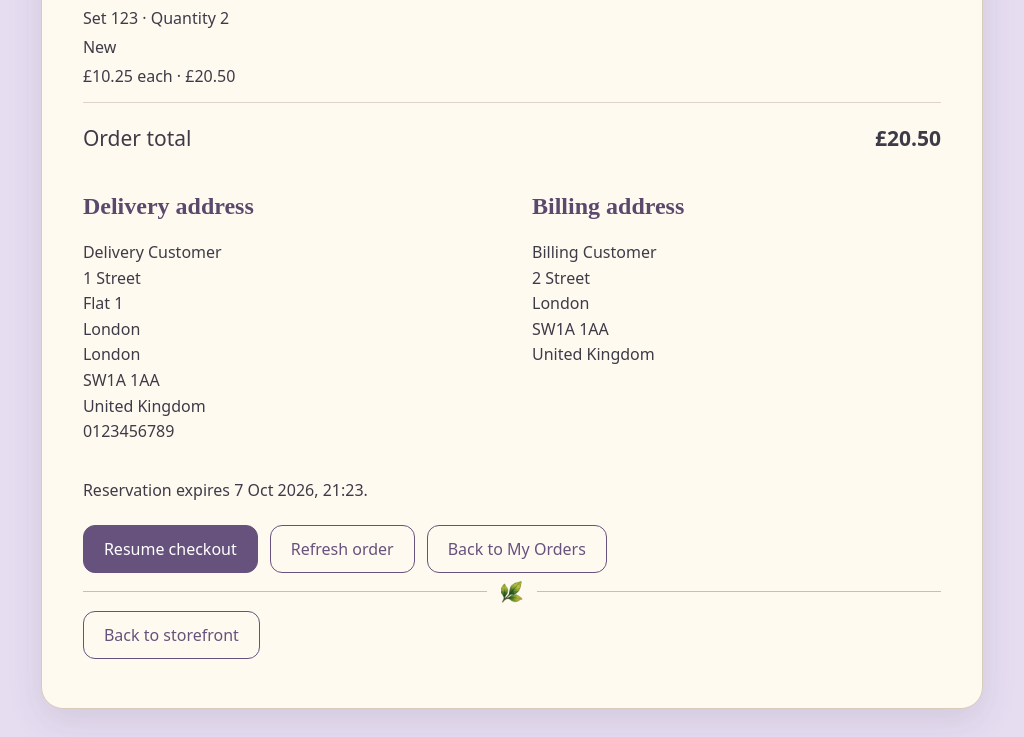
Test case: Order Detail and resume › resumes the existing checkout with GET only, preserving all checkout identity
(page scrolled)
Click the button "Resume checkout" at (170,549), box left=83, top=525, right=258, bottom=573
(page scrolled)
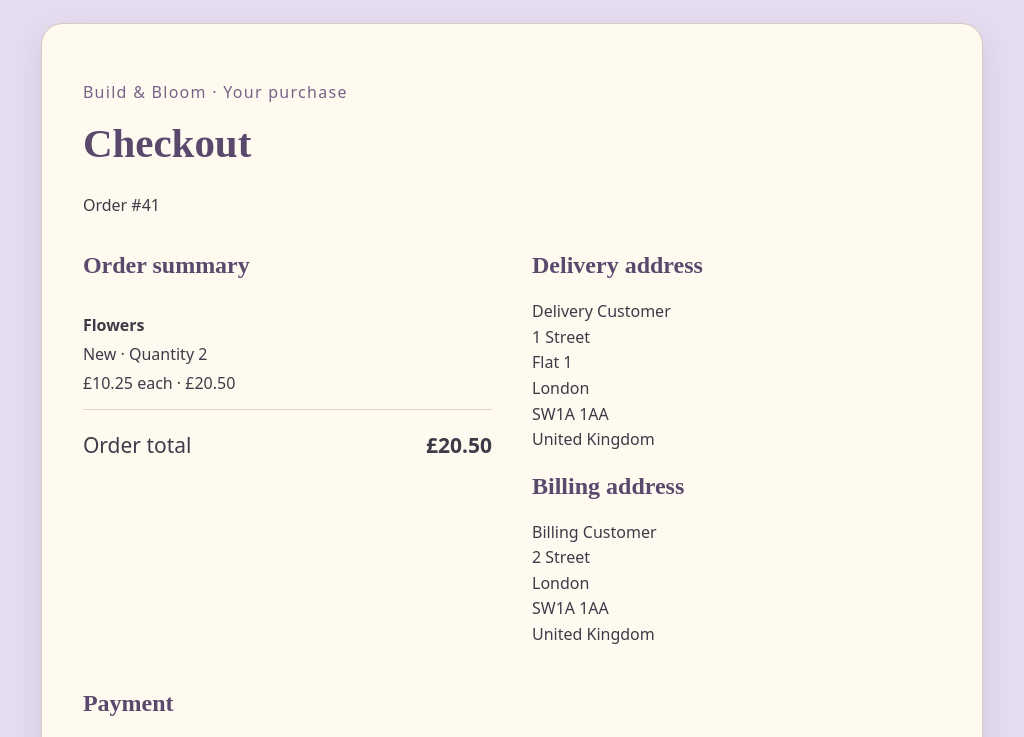
Expected: the text "Order summary" is shown, left=83, top=252, right=250, bottom=278
